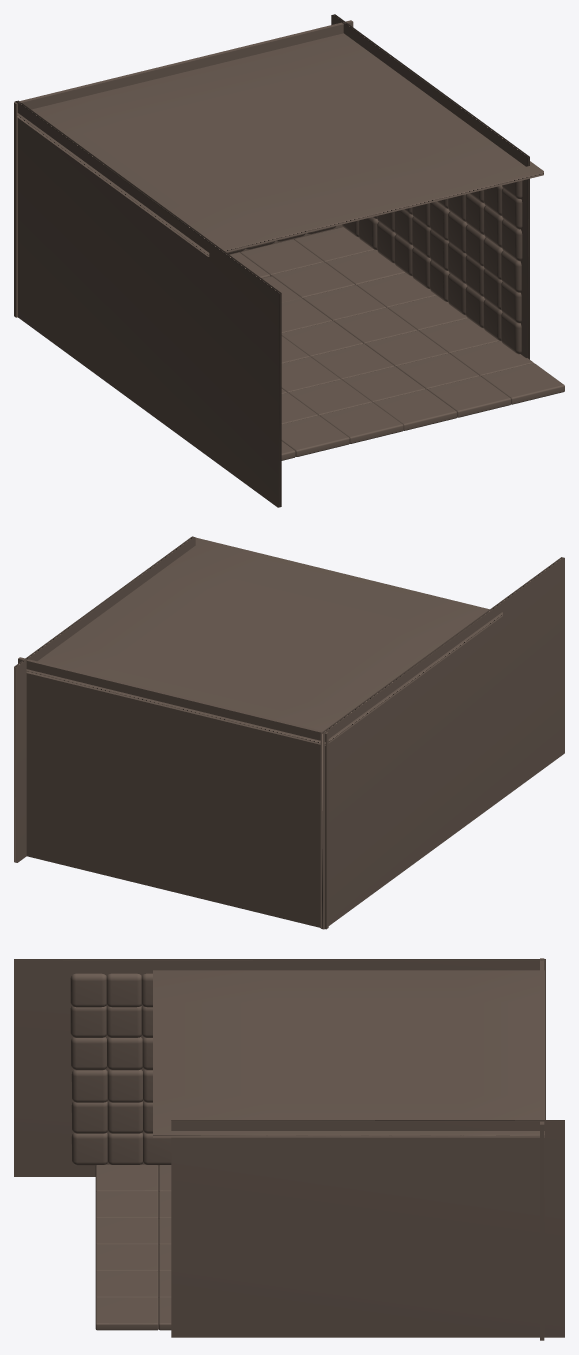
Rendered from white room idk idk.fbx.
3 views of the same model, one above another, from view 1: azimuth 30°, elevation 25°; view 2: azimuth 150°, elevation 25°; view 3: azimuth 270°, elevation 25° (orthographic). The views are drawn at different scales.
Visible parts, largest first — view 1: pCube4, pasted__pCube3, pasted__pasted__pasted__pasted__pasted__pCube2 (×6), pasted__pasted__pasted__pasted__pCube2 (×6), pasted__pasted__pasted__pCube2 (×4), pasted__pasted__pCube2 (×4), pCube3, pasted__pasted__pCube3, pasted__pasted__pasted__pasted__pasted__pasted__pCube2 (×2), pasted__pCube2 (×2), pasted__pasted__pasted__pasted__pasted__pasted__pCube4 (×2), pasted__pasted__pasted__pasted__pasted__pasted__pasted__past (×2) (+6 smaller); view 2: pCube3, pCube4, pasted__pCube3, pasted__pasted__pCube3; view 3: pasted__pasted__pCube3, pCube4, pasted__pCube3, pasted__pasted__pasted__pasted__pasted__pasted__pasted__past (×10), pasted__pasted__pCube2 (×2), pasted__pasted__pasted__pasted__pasted__pasted__pasted__pCub (×2), pasted__pasted__pasted__pasted__pasted__pCube2, pCube3, pasted__pCube2, pasted__pasted__pasted__pCube2, pasted__pasted__pasted__pasted__pCube2, pasted__pasted__pasted__pasted__pasted__pasted__pCube4.
Boxes of the visible parts, <box> form: pCube4: <box>17,33,543,256</box>; pasted__pCube3: <box>14,100,281,507</box>; pasted__pasted__pasted__pasted__pasted__pCube2 (×6): <box>240,239,564,404</box>; pasted__pasted__pasted__pasted__pCube2 (×6): <box>271,262,533,417</box>; pasted__pasted__pasted__pCube2 (×4): <box>281,321,479,430</box>; pasted__pasted__pCube2 (×4): <box>281,357,425,456</box>; pCube3: <box>14,20,353,317</box>; pasted__pasted__pCube3: <box>331,14,529,359</box>; pasted__pasted__pasted__pasted__pasted__pasted__pCube2 (×2): <box>294,227,436,307</box>; pasted__pCube2 (×2): <box>281,379,371,424</box>; pasted__pasted__pasted__pasted__pasted__pasted__pCube4 (×2): <box>465,188,522,234</box>; pasted__pasted__pasted__pasted__pasted__pasted__pasted__past (×2): <box>447,211,485,266</box>; pCube3: <box>18,657,328,929</box>; pCube4: <box>26,537,502,745</box>; pasted__pCube3: <box>320,557,564,929</box>; pasted__pasted__pCube3: <box>14,536,195,862</box>; pasted__pasted__pCube3: <box>171,1120,564,1337</box>; pCube4: <box>153,970,544,1137</box>; pasted__pCube3: <box>14,959,545,1176</box>; pasted__pasted__pasted__pasted__pasted__pasted__pasted__past (×10): <box>70,973,142,1133</box>; pasted__pasted__pCube2 (×2): <box>95,1191,158,1244</box>; pasted__pasted__pasted__pasted__pasted__pasted__pasted__pCub (×2): <box>71,1133,142,1165</box>; pasted__pasted__pasted__pasted__pasted__pCube2: <box>95,1297,158,1330</box>; pCube3: <box>540,958,544,1340</box>; pasted__pCube2: <box>95,1164,158,1191</box>; pasted__pasted__pasted__pCube2: <box>95,1244,158,1271</box>; pasted__pasted__pasted__pasted__pCube2: <box>95,1271,158,1298</box>; pasted__pasted__pasted__pasted__pasted__pasted__pCube4: <box>143,1133,171,1165</box>.
Bounding box in the file's own units: 622 × 376 × 870.
